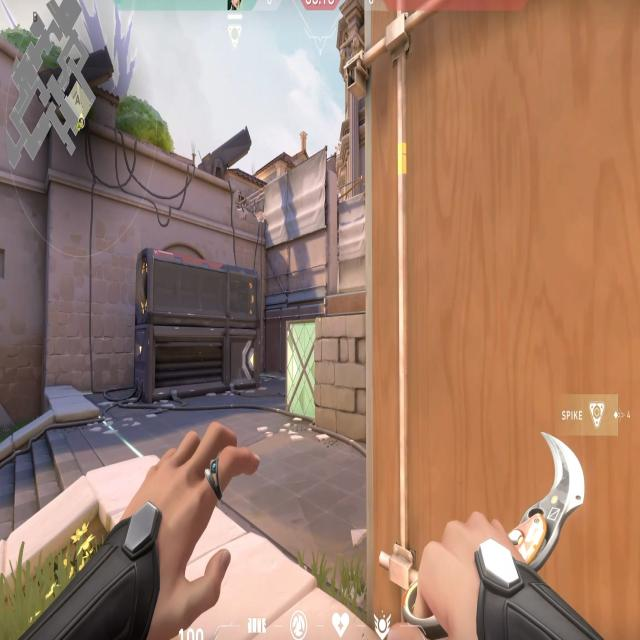A_Heaven_Wall: (265, 151, 335, 302)
